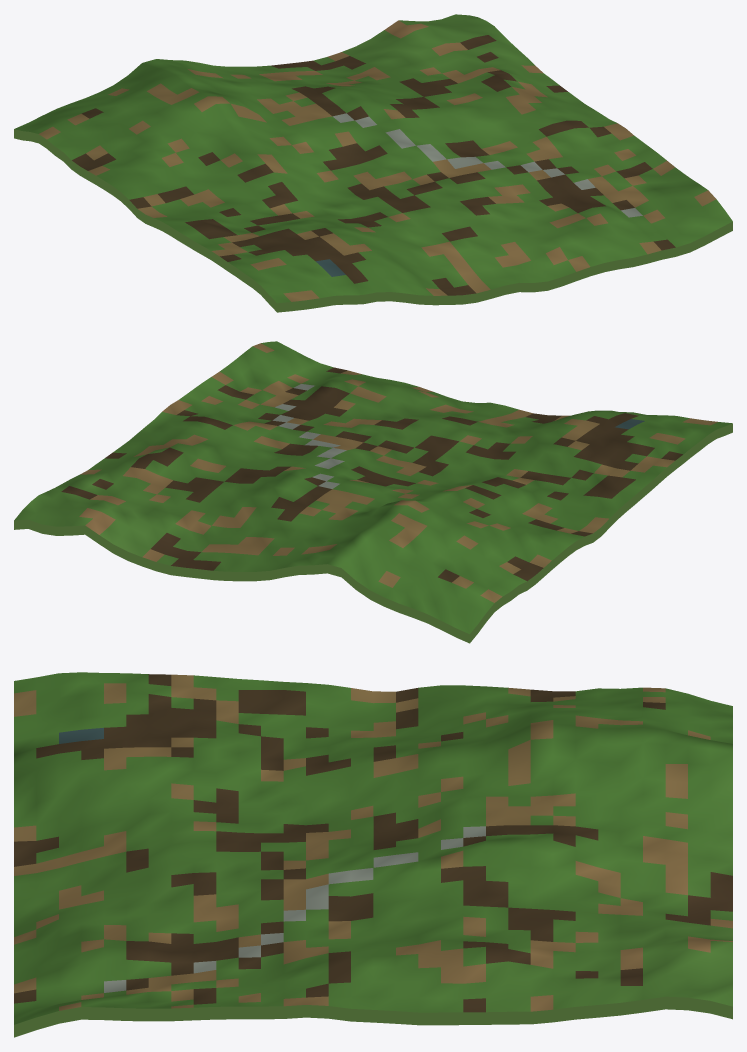
Rendered from chunk_1_2_lod1.glb.
3 renders of one model, top to bottom at view 1: azimuth 30°, elevation 25°; view 2: azimuth 150°, elevation 25°; view 3: azimuth 270°, elevation 25°, orthographic. The views are drawn at different scales.
Parts seen in each view (by area): view 1: Surface_Grass, Surface_Dirt, Surface_Mud, Skirt, Surface_Gravel; view 2: Surface_Grass, Surface_Mud, Surface_Dirt, Skirt, Surface_Gravel; view 3: Surface_Grass, Surface_Dirt, Surface_Mud, Skirt, Surface_Gravel.
Boxes of the visible parts, box(x1,y1,x2,y2) form: Surface_Grass: box(14, 14, 732, 303); Surface_Dirt: box(39, 20, 716, 301); Surface_Mud: box(72, 35, 675, 295); Skirt: box(14, 129, 732, 312); Surface_Gravel: box(332, 113, 642, 217); Surface_Grass: box(14, 341, 731, 633); Surface_Mud: box(61, 367, 682, 582); Surface_Dirt: box(79, 343, 717, 602); Skirt: box(14, 423, 732, 643); Surface_Gravel: box(272, 384, 346, 488); Surface_Grass: box(14, 672, 732, 1024); Surface_Dirt: box(14, 674, 732, 1011); Surface_Mud: box(14, 674, 732, 1012); Skirt: box(14, 996, 732, 1037); Surface_Gravel: box(104, 826, 485, 992).
Bounding box in the file's own units: 256 × 45.48 × 256.
